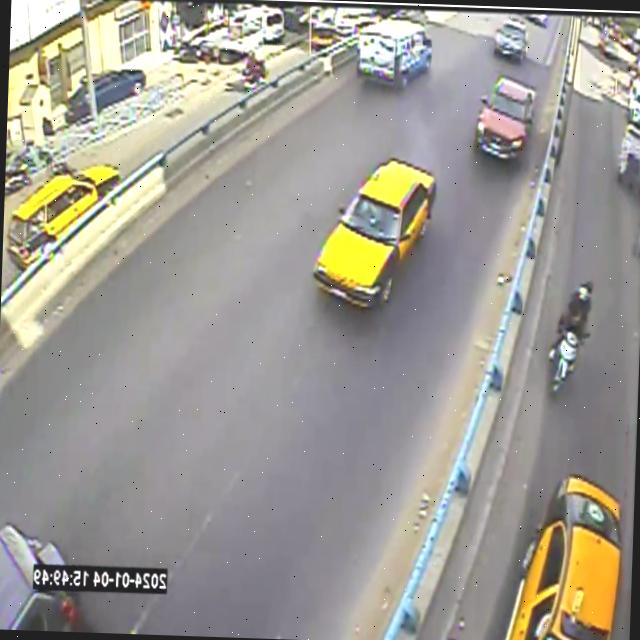car: (314, 158, 436, 306), (7, 164, 122, 269), (0, 523, 85, 631), (357, 17, 432, 87), (475, 77, 535, 159), (494, 19, 527, 61)
